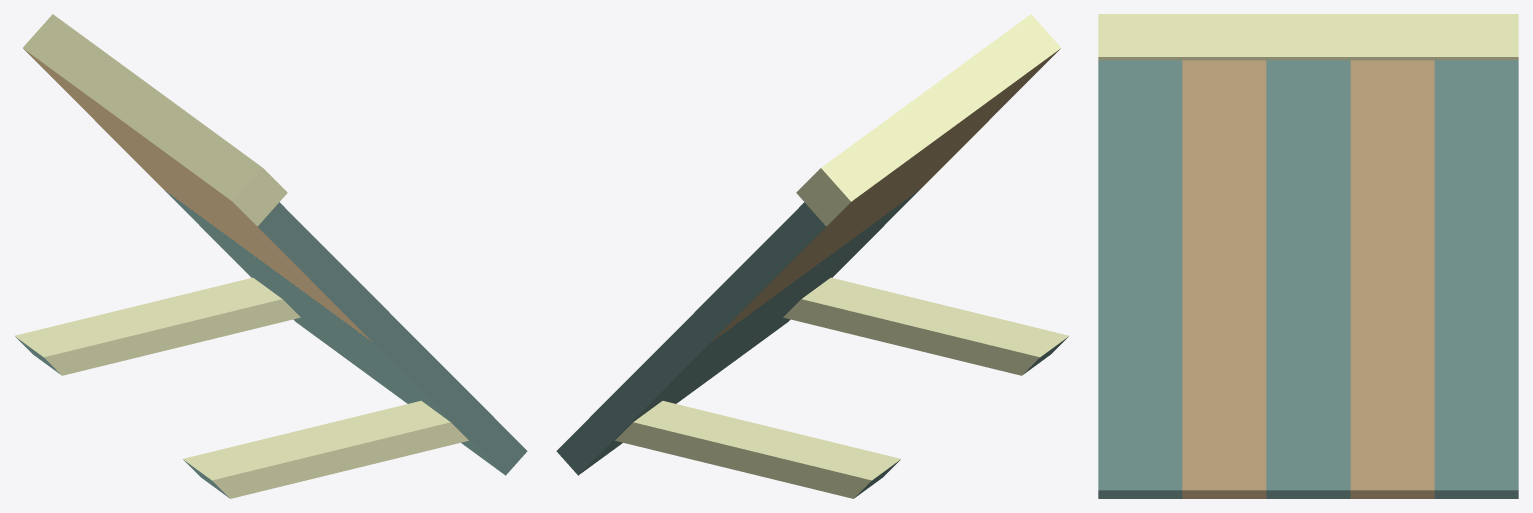
The model's file is ToldoSimple.fbx.
3 renders of one model, left to right at view 1: azimuth 30°, elevation 25°; view 2: azimuth 150°, elevation 25°; view 3: azimuth 270°, elevation 25°, orthographic.
Visible parts, largest first — view 1: Cube.030; view 2: Cube.030; view 3: Cube.030.
Boxes of the visible parts, box(x1,y1,x2,y2) form: Cube.030: box(14, 14, 527, 498); Cube.030: box(556, 14, 1069, 498); Cube.030: box(1098, 14, 1518, 498).
Size of the model in its own units: 43.24 by 49.01 by 50.9.
